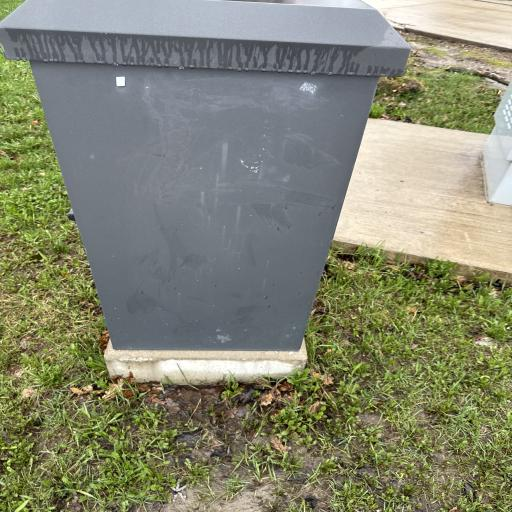Electrical Box: (0, 0, 413, 379)
